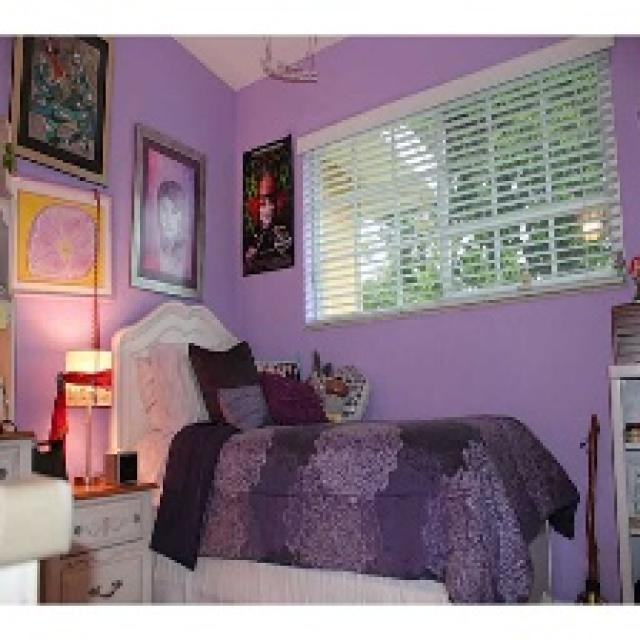Bed: (106, 300, 580, 603)
